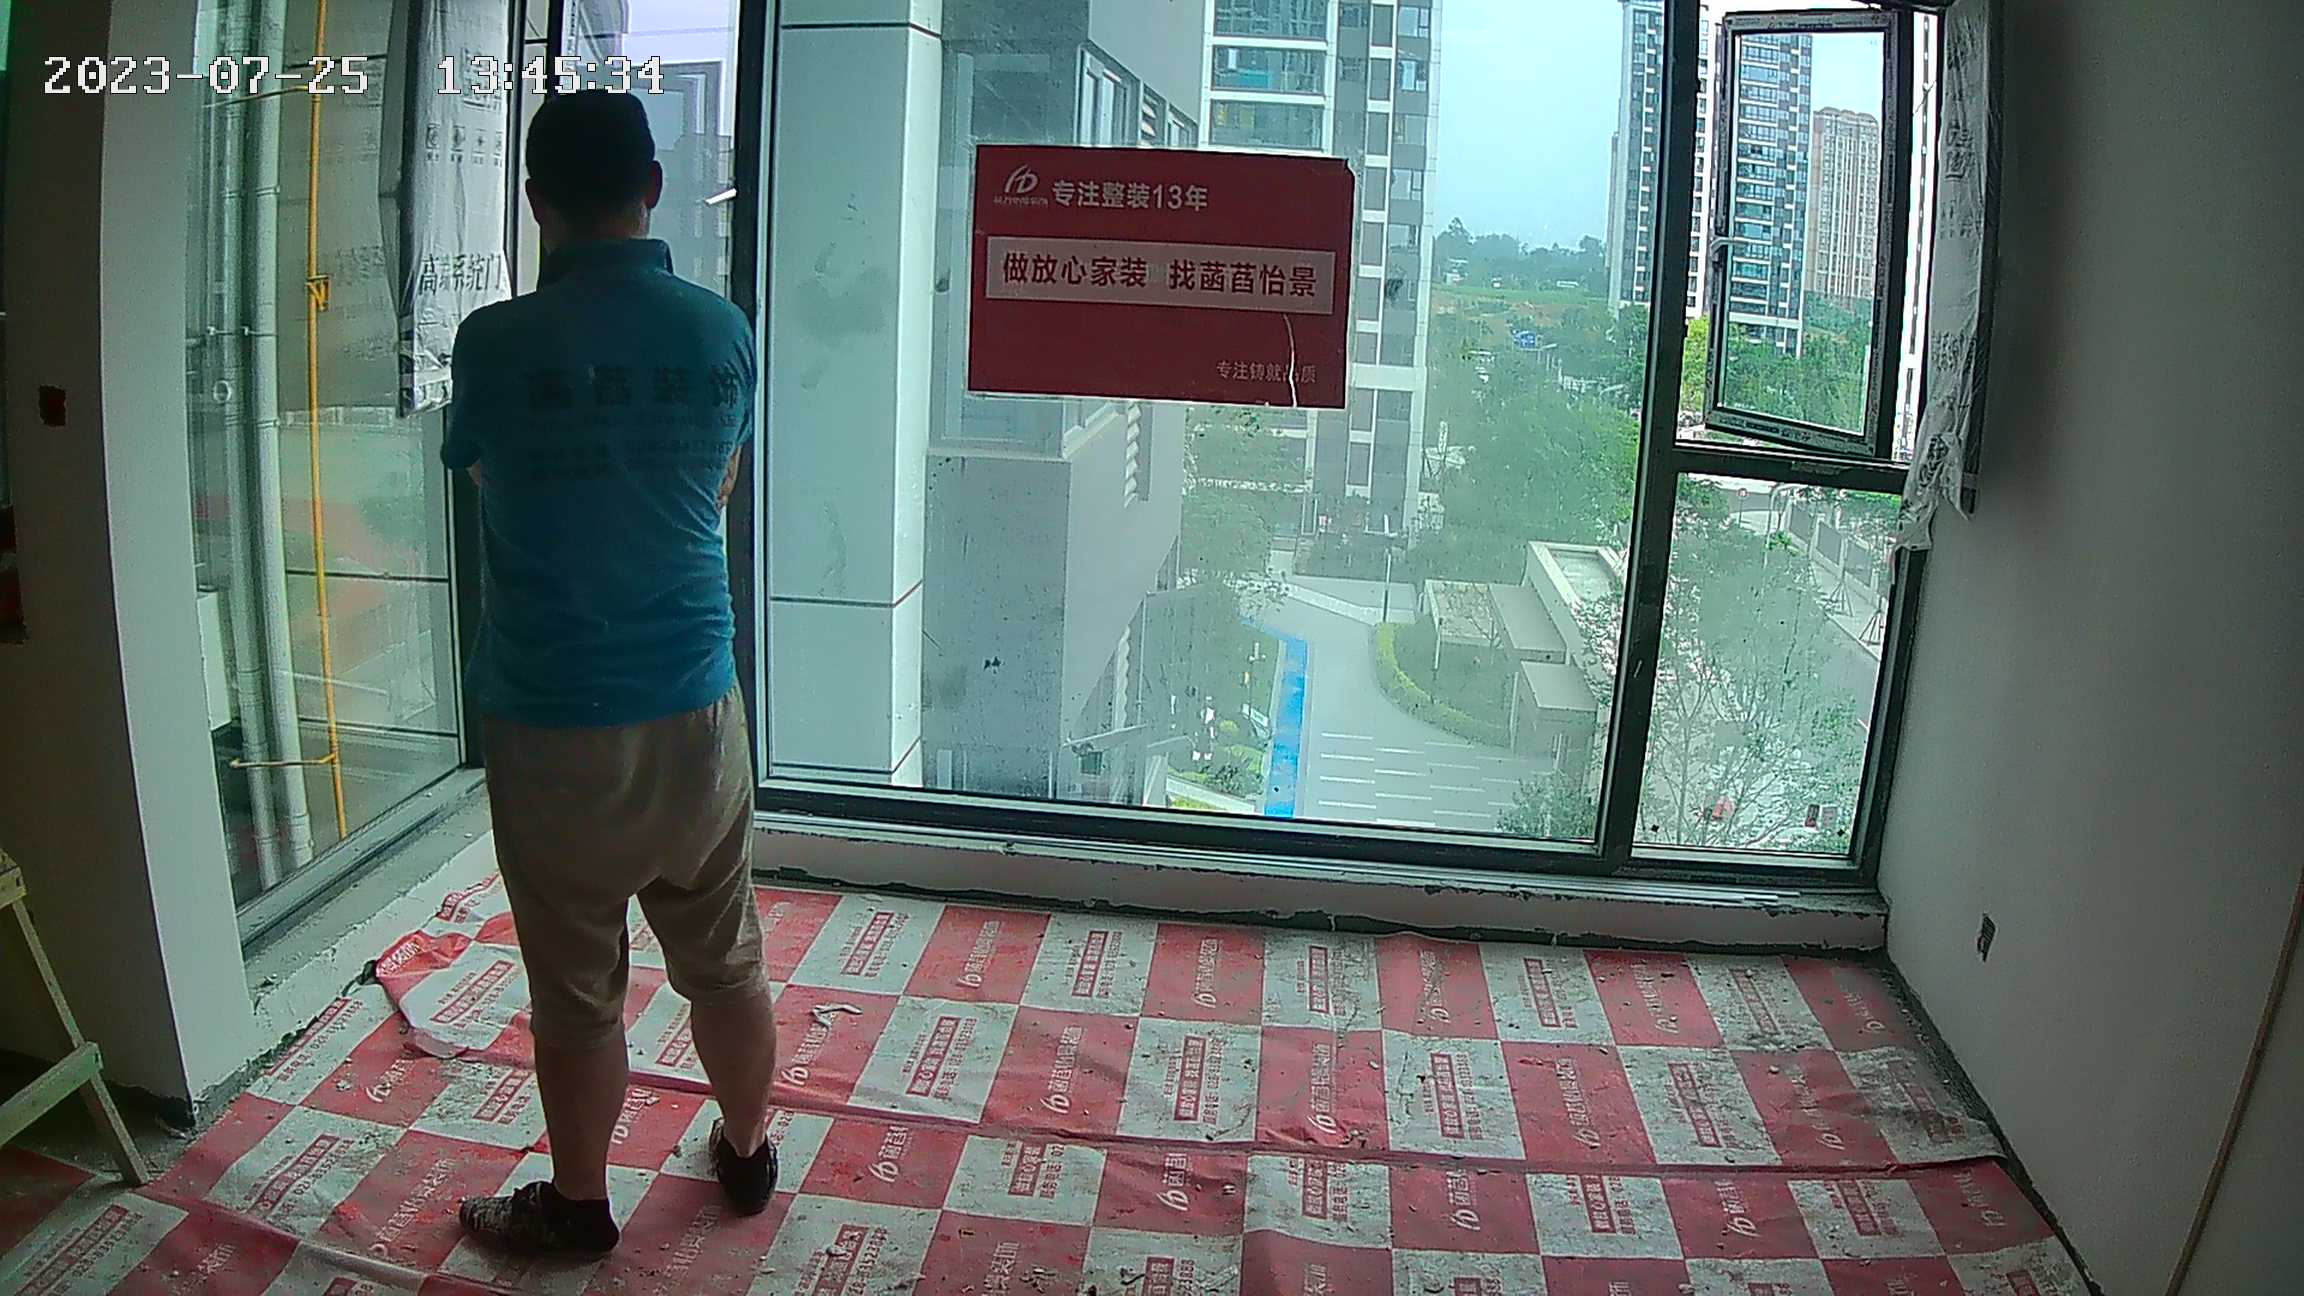people: (431, 88, 806, 1270)
window: (194, 5, 1930, 928)
